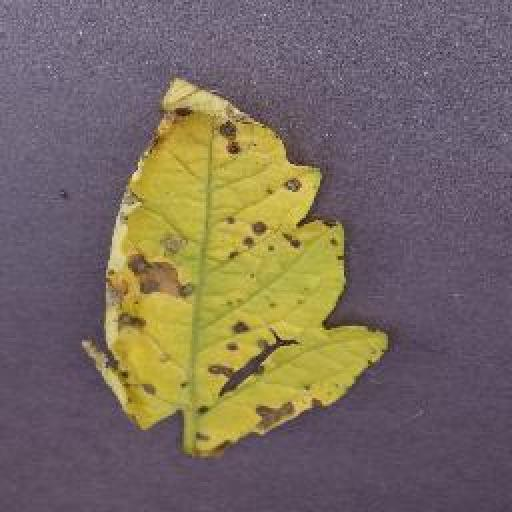Septoria: (86, 74, 391, 462)
